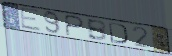2: (131, 26, 152, 49)
9: (43, 10, 62, 36)
B: (85, 18, 108, 42)
D: (108, 21, 130, 45)
E: (18, 6, 43, 32)
P: (64, 13, 86, 38)
